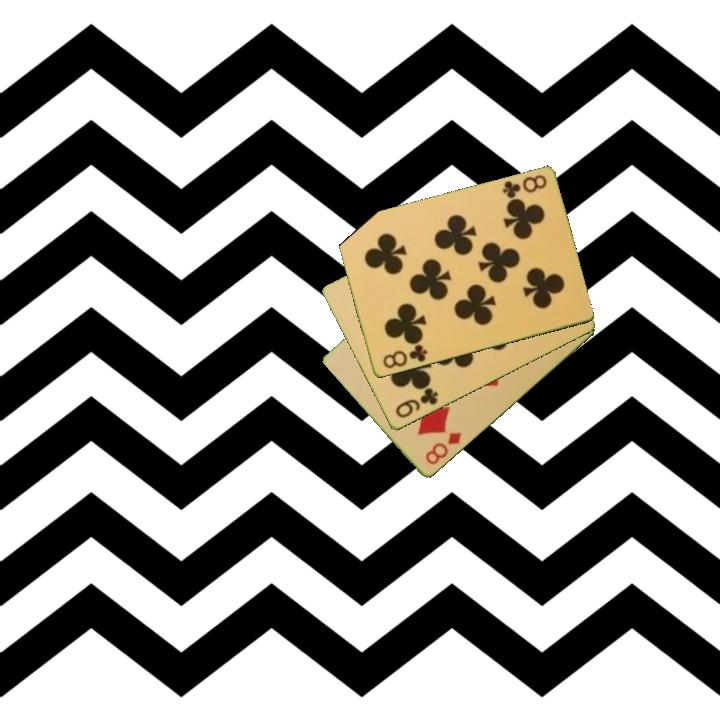8c: (379, 341, 430, 372), (499, 171, 549, 202)
8d: (422, 429, 465, 468)
9c: (391, 385, 441, 421)
